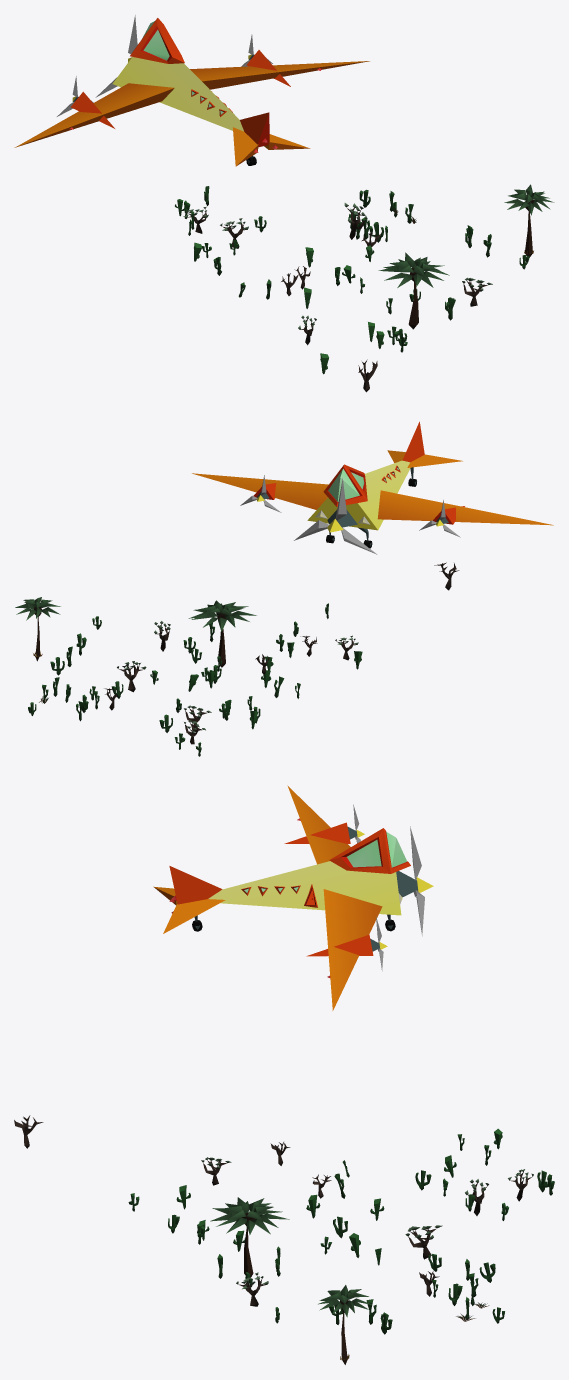
The model's file is c_trees_desert_bot_left.fbx.
The picture shows the model from 3 angles, top to bottom: view 1: azimuth 30°, elevation 25°; view 2: azimuth 150°, elevation 25°; view 3: azimuth 270°, elevation 25°; orthographic projection. The views are drawn at different scales.
Visible parts, largest first — view 1: c_trees_desert_bot_left; view 2: c_trees_desert_bot_left; view 3: c_trees_desert_bot_left.
Boxes of the visible parts, x1,y1,x2,y2 form: c_trees_desert_bot_left: (14,15,554,392); c_trees_desert_bot_left: (15,421,553,756); c_trees_desert_bot_left: (14,785,554,1364).
Bounding box in the file's own units: 86.18 × 46.02 × 64.95.
